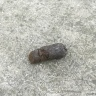Dog: (29, 43, 67, 63)
